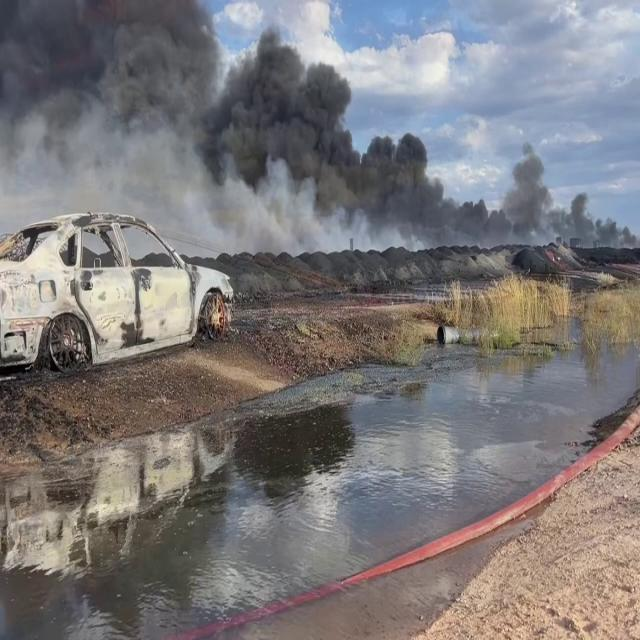Smoke: (4, 5, 636, 284)
